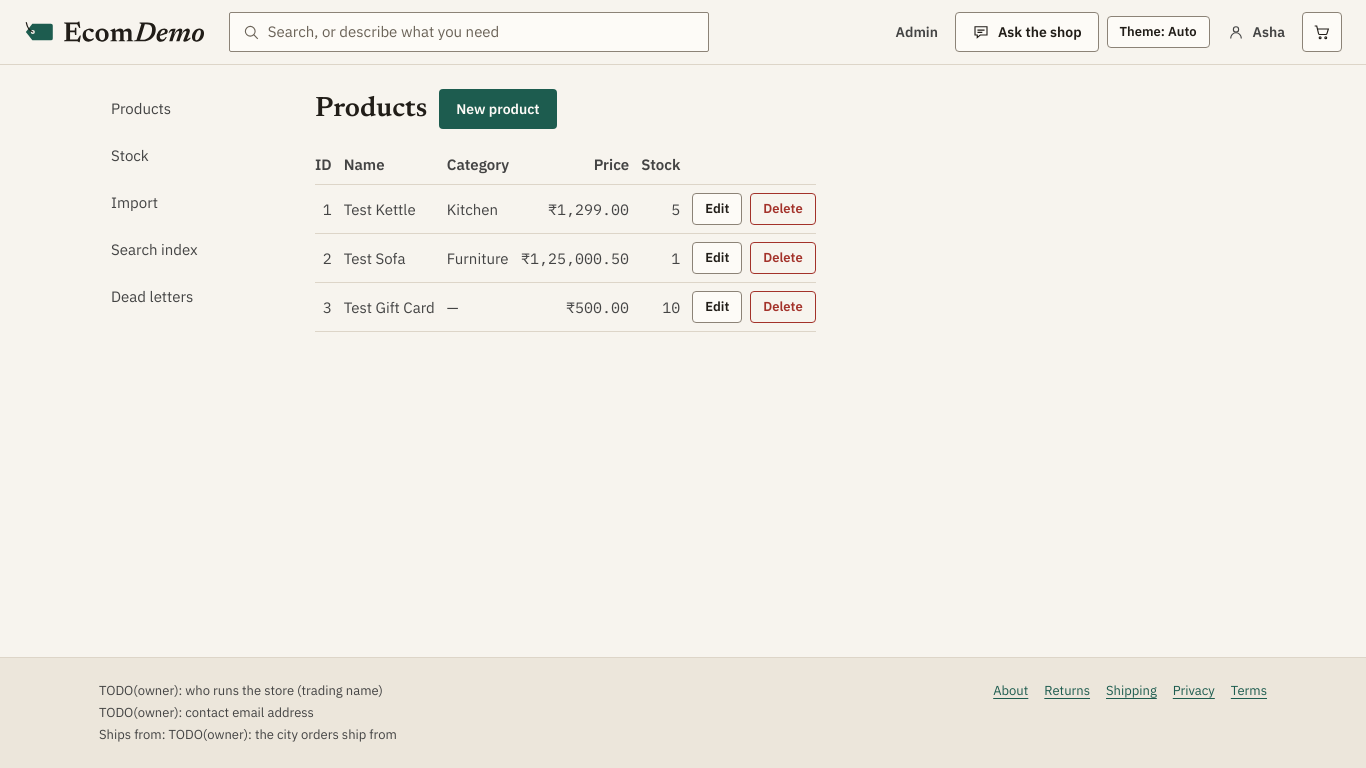
Test: when a write fails › a delete shows the reason and the support reference, and the backdrop closes the dialog
Click the button with aria-label "Delete Test Kettle" at (783, 209), box x1=750 y1=193 x2=816 y2=225
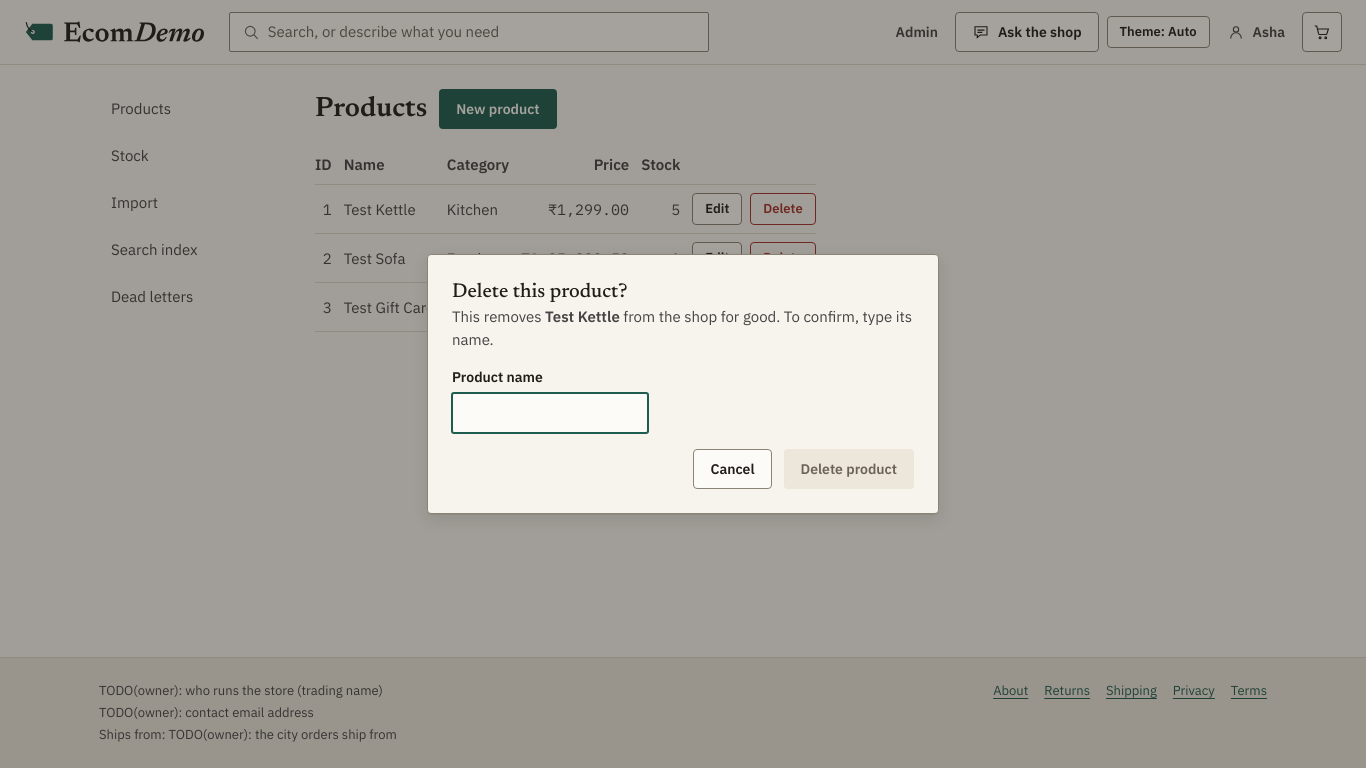
Type "Test Kettle" into the field labelled "Product name" at (550, 413), box x1=465 y1=394 x2=635 y2=432
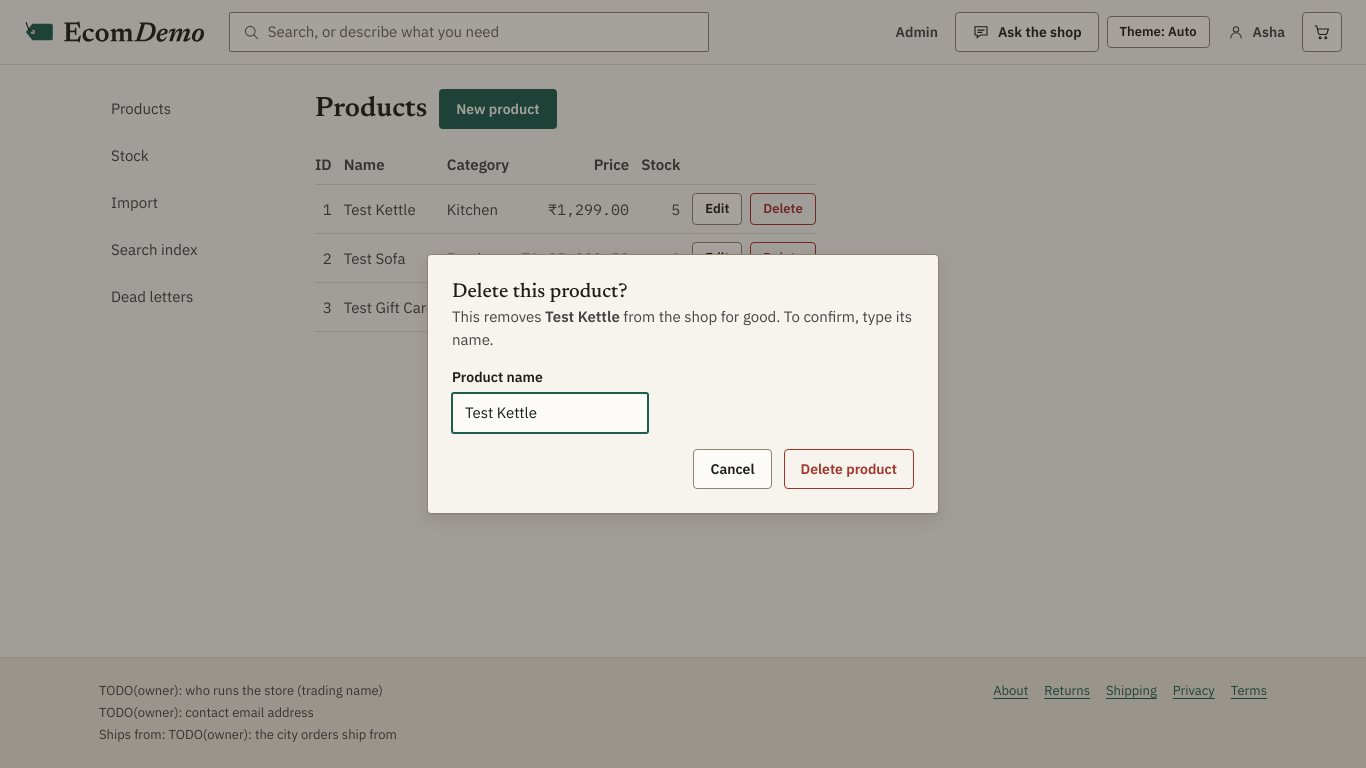
Click the button "Delete product" at (849, 469), box x1=784 y1=449 x2=914 y2=489
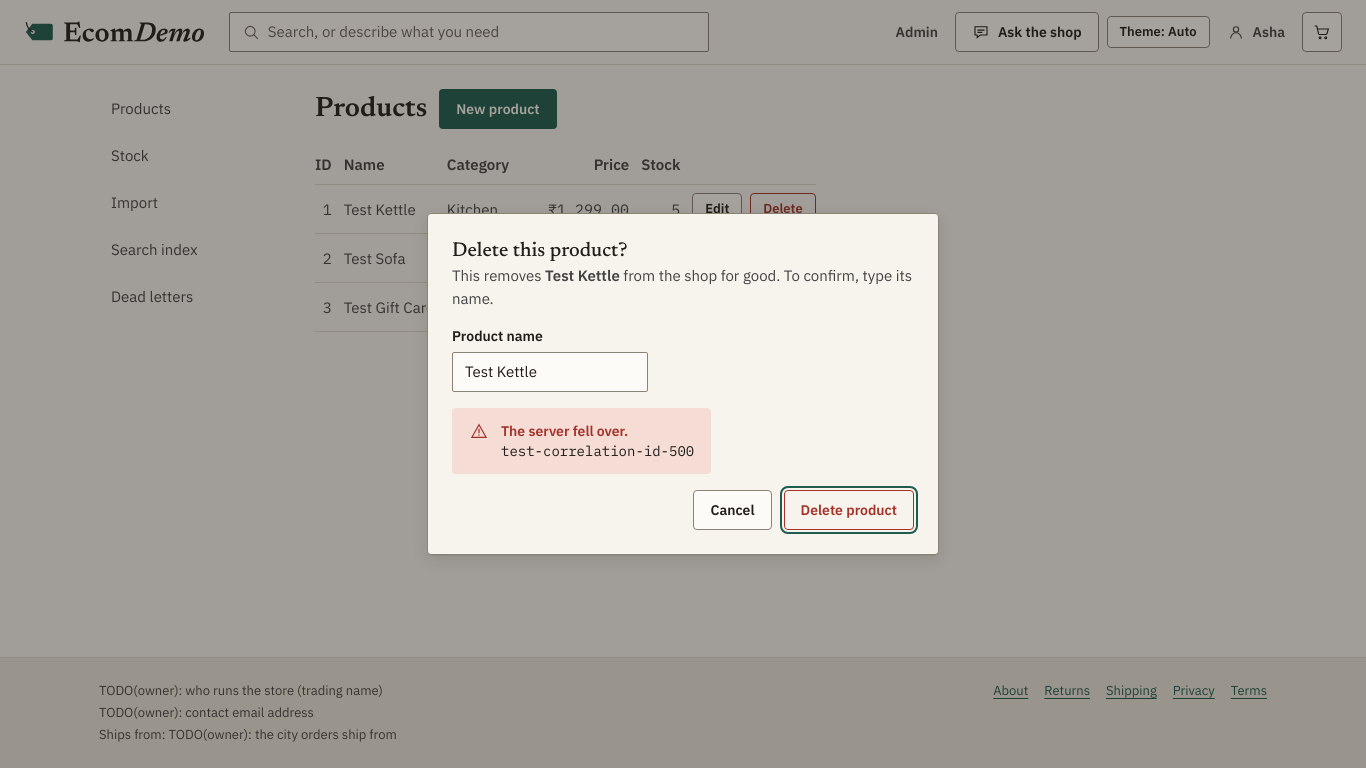
expect the text "The server fell over." is shown: met, box x1=501 y1=422 x2=628 y2=440
expect the text "test-correlation-id-500" is shown: met, box x1=501 y1=442 x2=694 y2=460
A click on the backdrop lands on the dialog element itself.
Click the dialog with class "admin-dialog" at (683, 384), box x1=427 y1=213 x2=939 y2=555
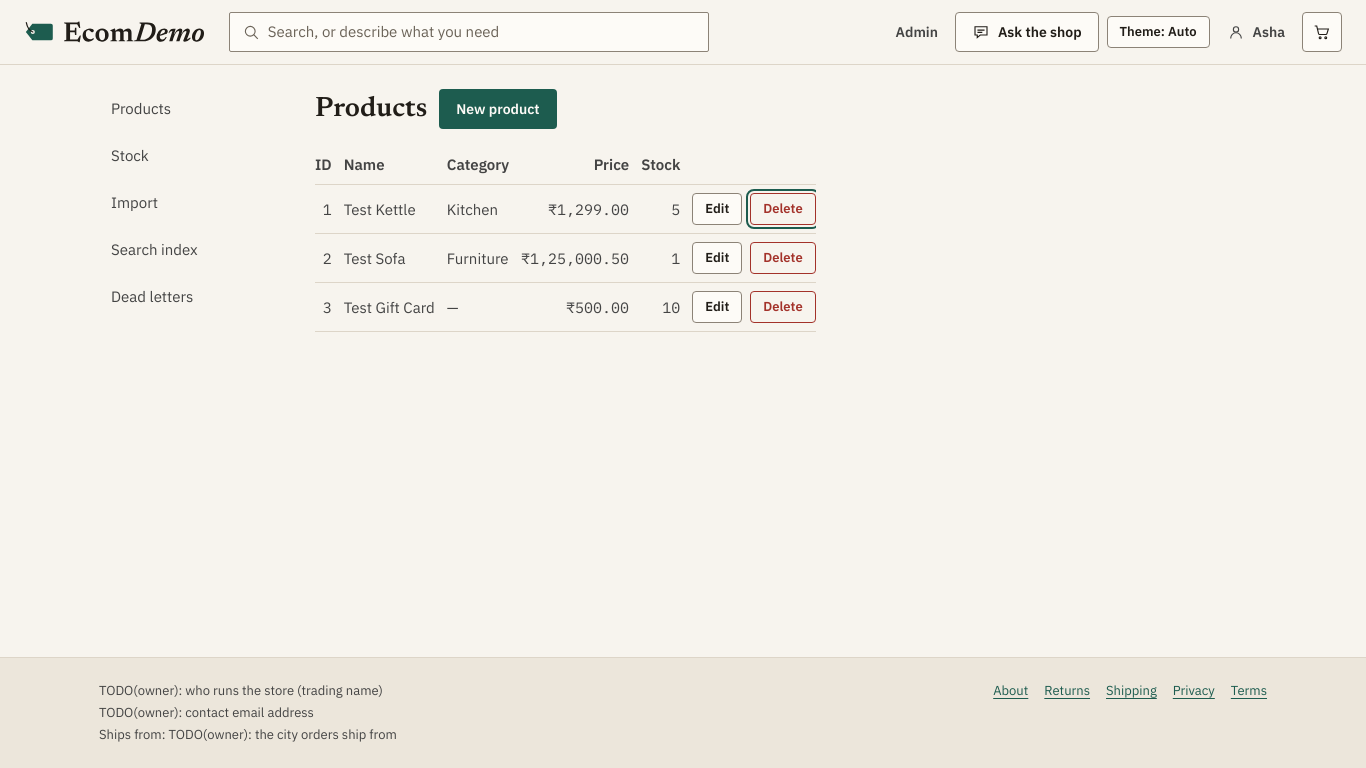
expect the button "Delete product" is gone: met
